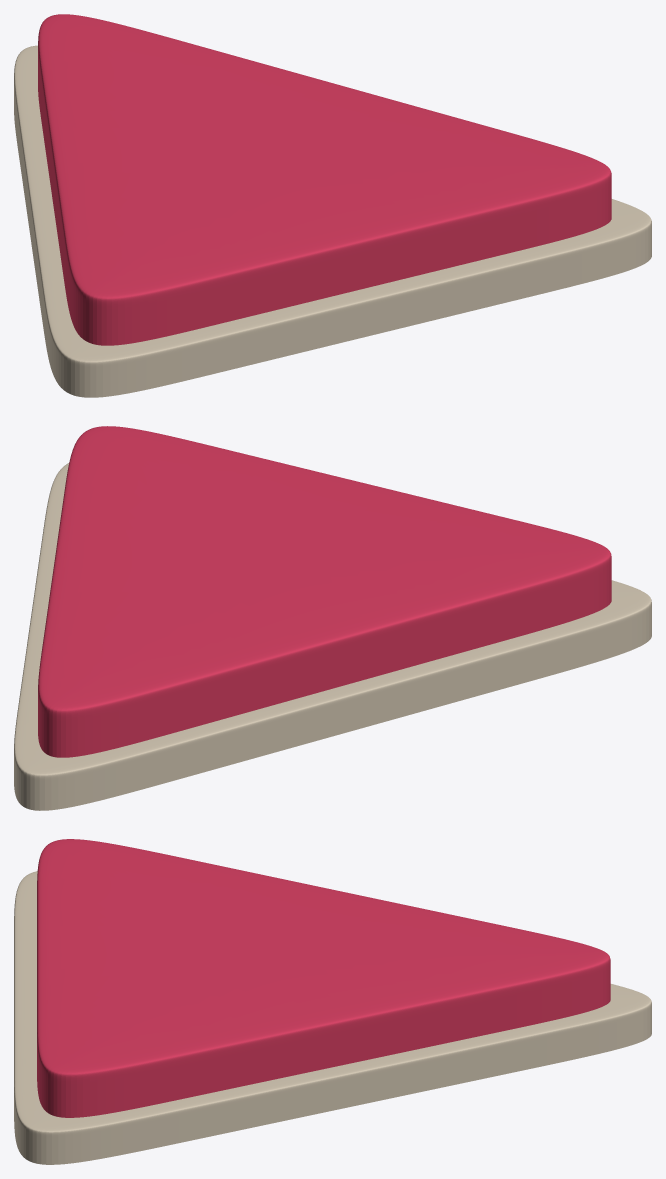
The model's file is TriangleButton.fbx.
3 views of the same model, one above another, from view 1: azimuth 30°, elevation 25°; view 2: azimuth 150°, elevation 25°; view 3: azimuth 270°, elevation 25° (orthographic). The views are drawn at different scales.
Visible parts, largest first — view 1: Cube; view 2: Cube; view 3: Cube.
Boxes of the visible parts, <box> form: Cube: <box>14,14,651,397</box>; Cube: <box>14,426,651,810</box>; Cube: <box>14,839,651,1164</box>.
Size of the model in its own units: 202 by 28.52 by 208.
